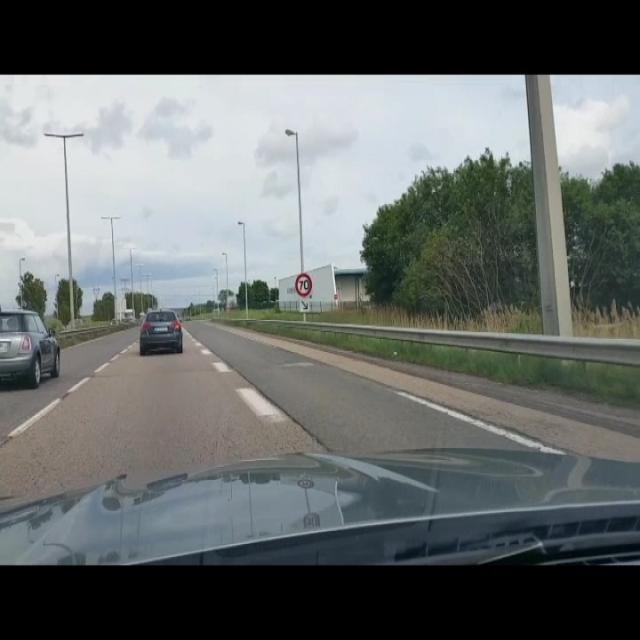side_right: (300, 299, 309, 312)
speed_70: (294, 272, 314, 298)
